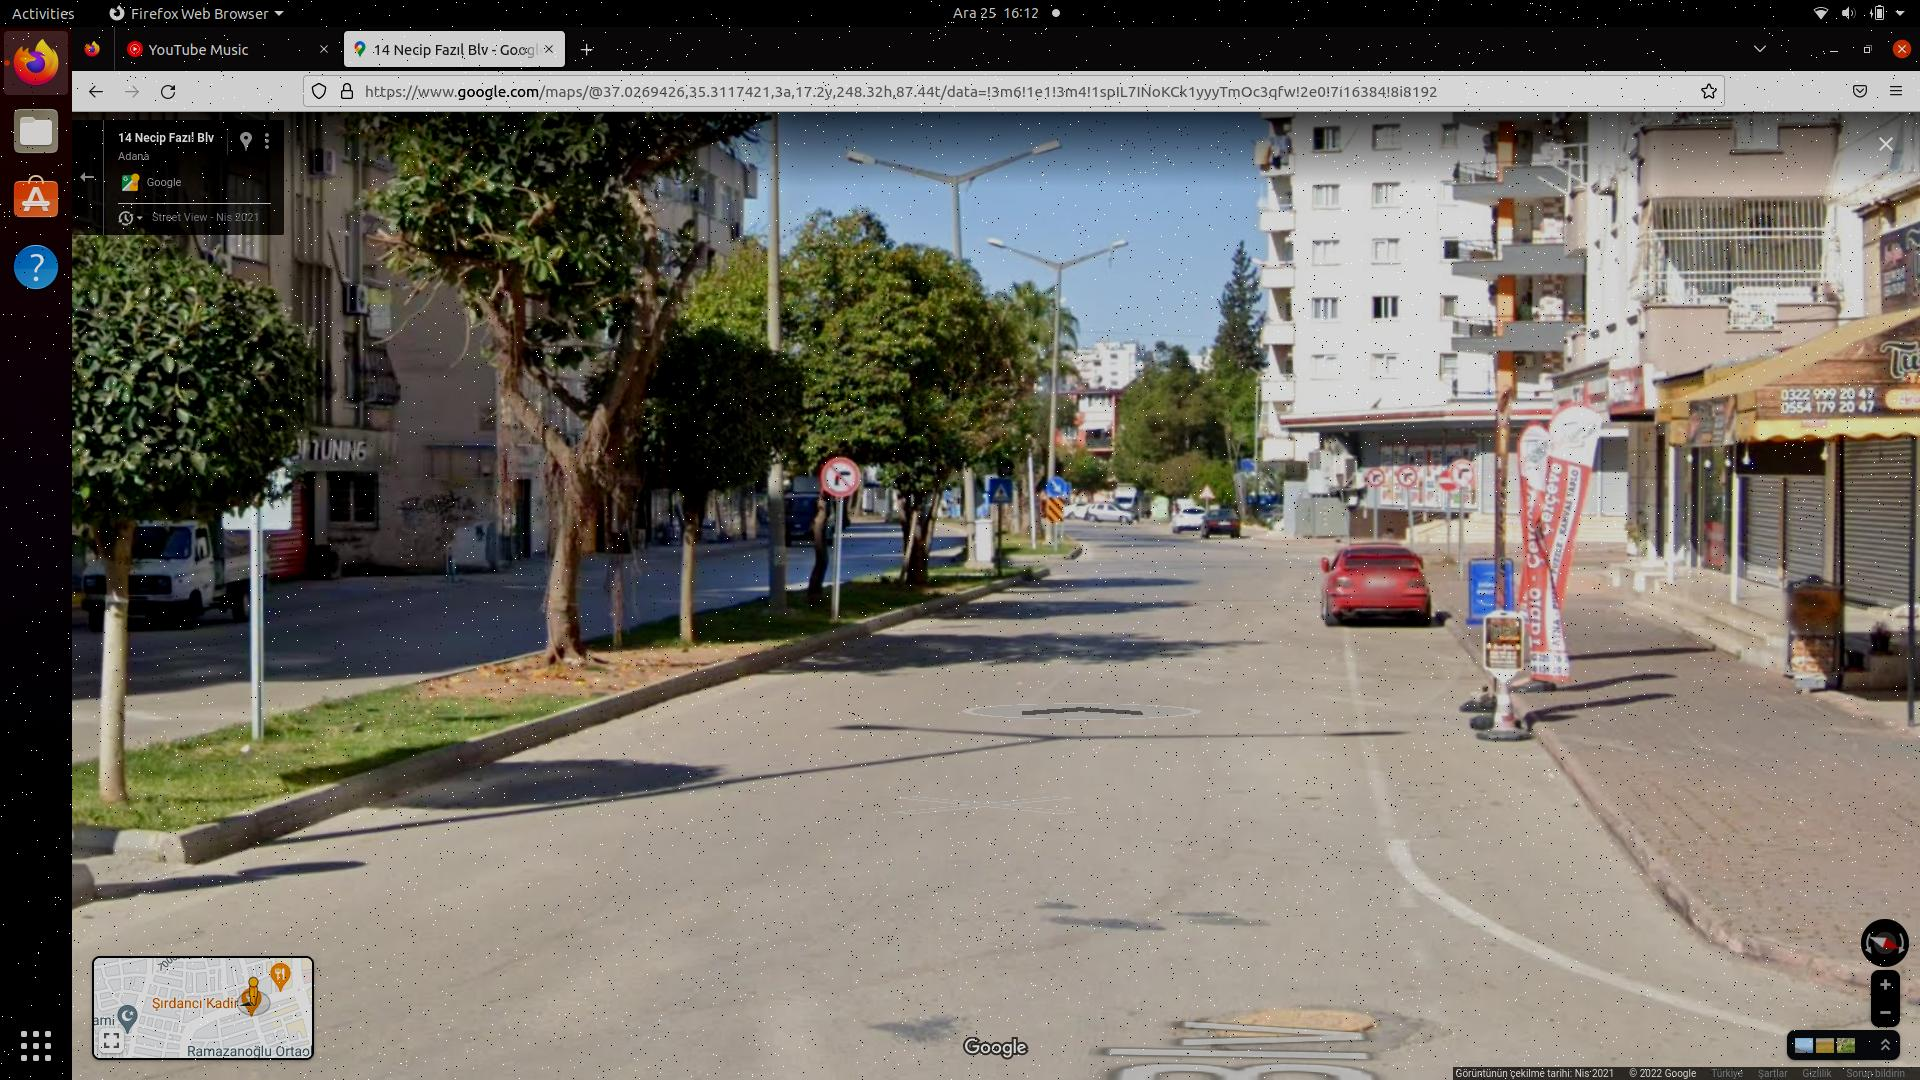rightturnsareforbidden: (824, 458, 861, 496)
